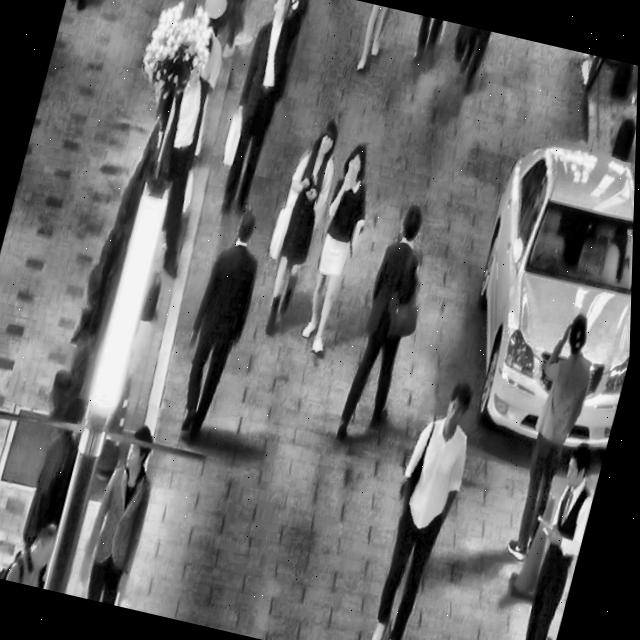light_vehicle: (436, 113, 637, 467)
